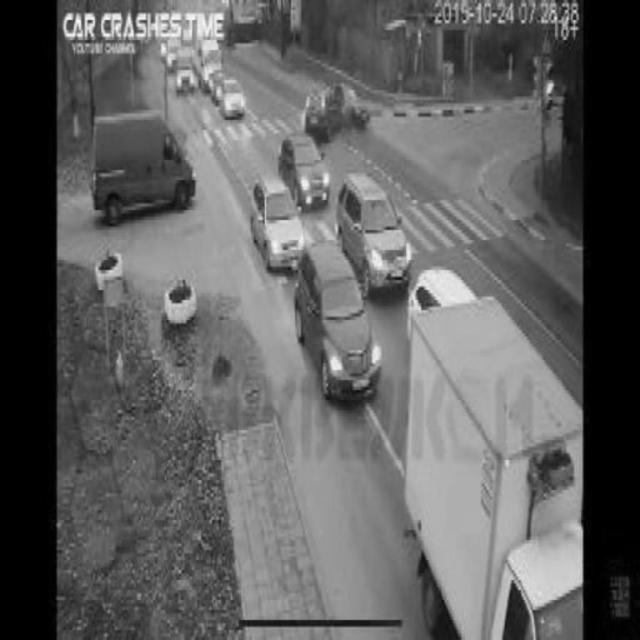vehicle: (404, 303, 578, 633), (295, 251, 388, 399), (90, 115, 193, 227), (336, 161, 416, 283), (250, 174, 305, 262), (275, 132, 339, 205), (168, 46, 206, 94), (217, 74, 245, 118)
